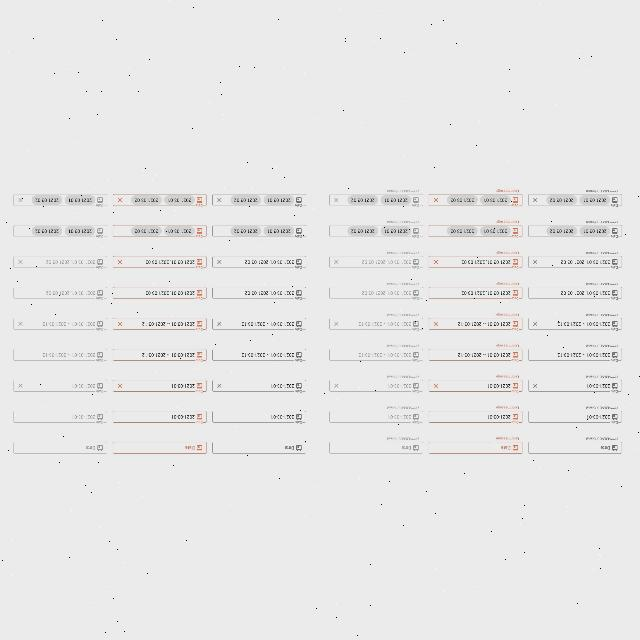VInlineDatepicker: (329, 406, 423, 426), (428, 345, 524, 363), (428, 314, 524, 332), (428, 282, 524, 300), (428, 251, 524, 269), (428, 190, 524, 208), (328, 345, 424, 363), (528, 407, 622, 425), (528, 376, 622, 394), (429, 376, 523, 394), (429, 407, 523, 425), (528, 345, 622, 363), (528, 314, 622, 332), (528, 252, 622, 270), (528, 221, 622, 239), (528, 190, 622, 208), (429, 220, 523, 238), (329, 438, 423, 456), (329, 376, 423, 394), (329, 314, 423, 332), (329, 252, 423, 270), (329, 221, 423, 239), (329, 189, 423, 207), (328, 284, 424, 300), (528, 438, 622, 454), (429, 438, 523, 454), (528, 284, 622, 300), (112, 442, 208, 456), (12, 442, 108, 456), (112, 256, 208, 270), (112, 194, 208, 208), (12, 194, 108, 208), (113, 411, 207, 425), (113, 380, 207, 394), (113, 349, 207, 363), (13, 349, 107, 363), (212, 318, 306, 332), (113, 318, 207, 332), (13, 318, 107, 332), (212, 287, 306, 301), (13, 287, 107, 301), (213, 256, 307, 270), (13, 256, 107, 270), (212, 225, 306, 239), (113, 225, 207, 239), (13, 225, 107, 239), (212, 194, 306, 208), (12, 381, 108, 394), (212, 381, 306, 394), (212, 443, 306, 455), (213, 412, 307, 424), (13, 412, 107, 424), (212, 350, 306, 362), (113, 288, 207, 300)
